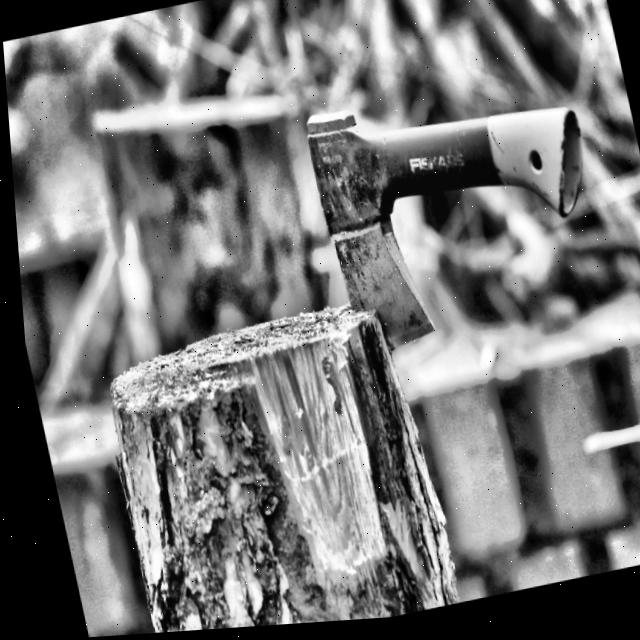kapak: (300, 102, 587, 358)
